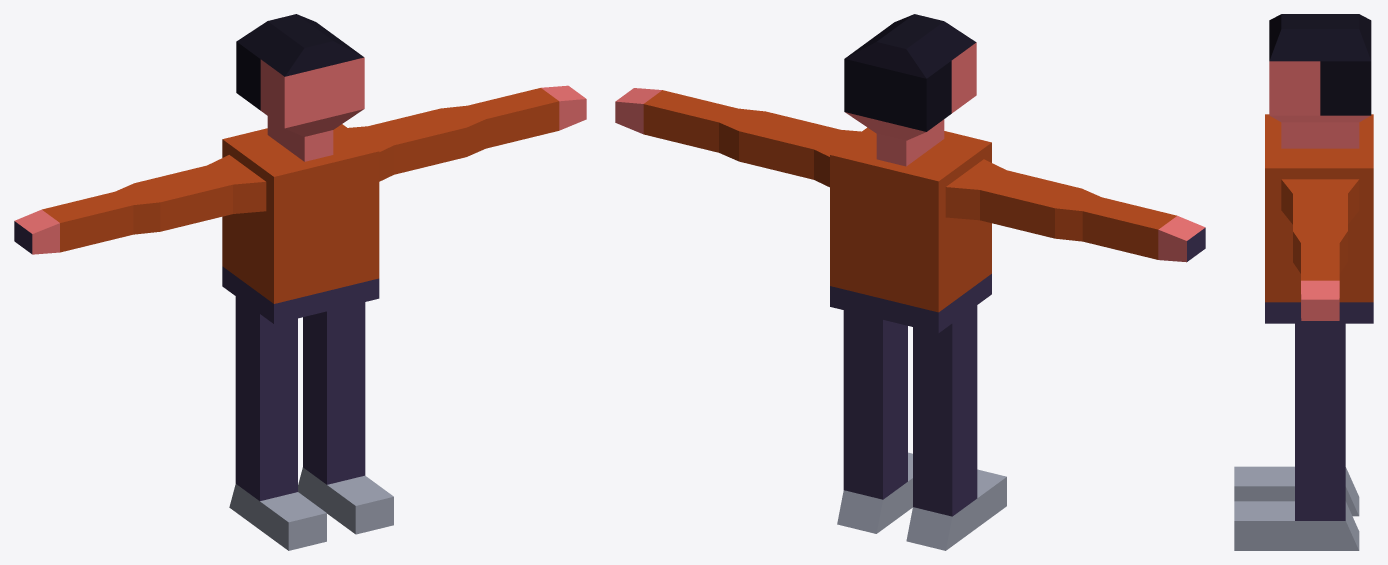
The model's file is walker.fbx.
3 renders of one model, left to right at view 1: azimuth 30°, elevation 25°; view 2: azimuth 150°, elevation 25°; view 3: azimuth 270°, elevation 25°, orthographic. The views are drawn at different scales.
Parts seen in each view (by area): view 1: Cube; view 2: Cube; view 3: Cube.
Boxes of the visible parts, left/top/right/bottom form: Cube: left=14, top=14, right=586, bottom=550; Cube: left=615, top=14, right=1205, bottom=550; Cube: left=1234, top=14, right=1373, bottom=550.
Size of the model in its own units: 1052 by 865 by 218.
Materials: 1 (1 with a texture image).
